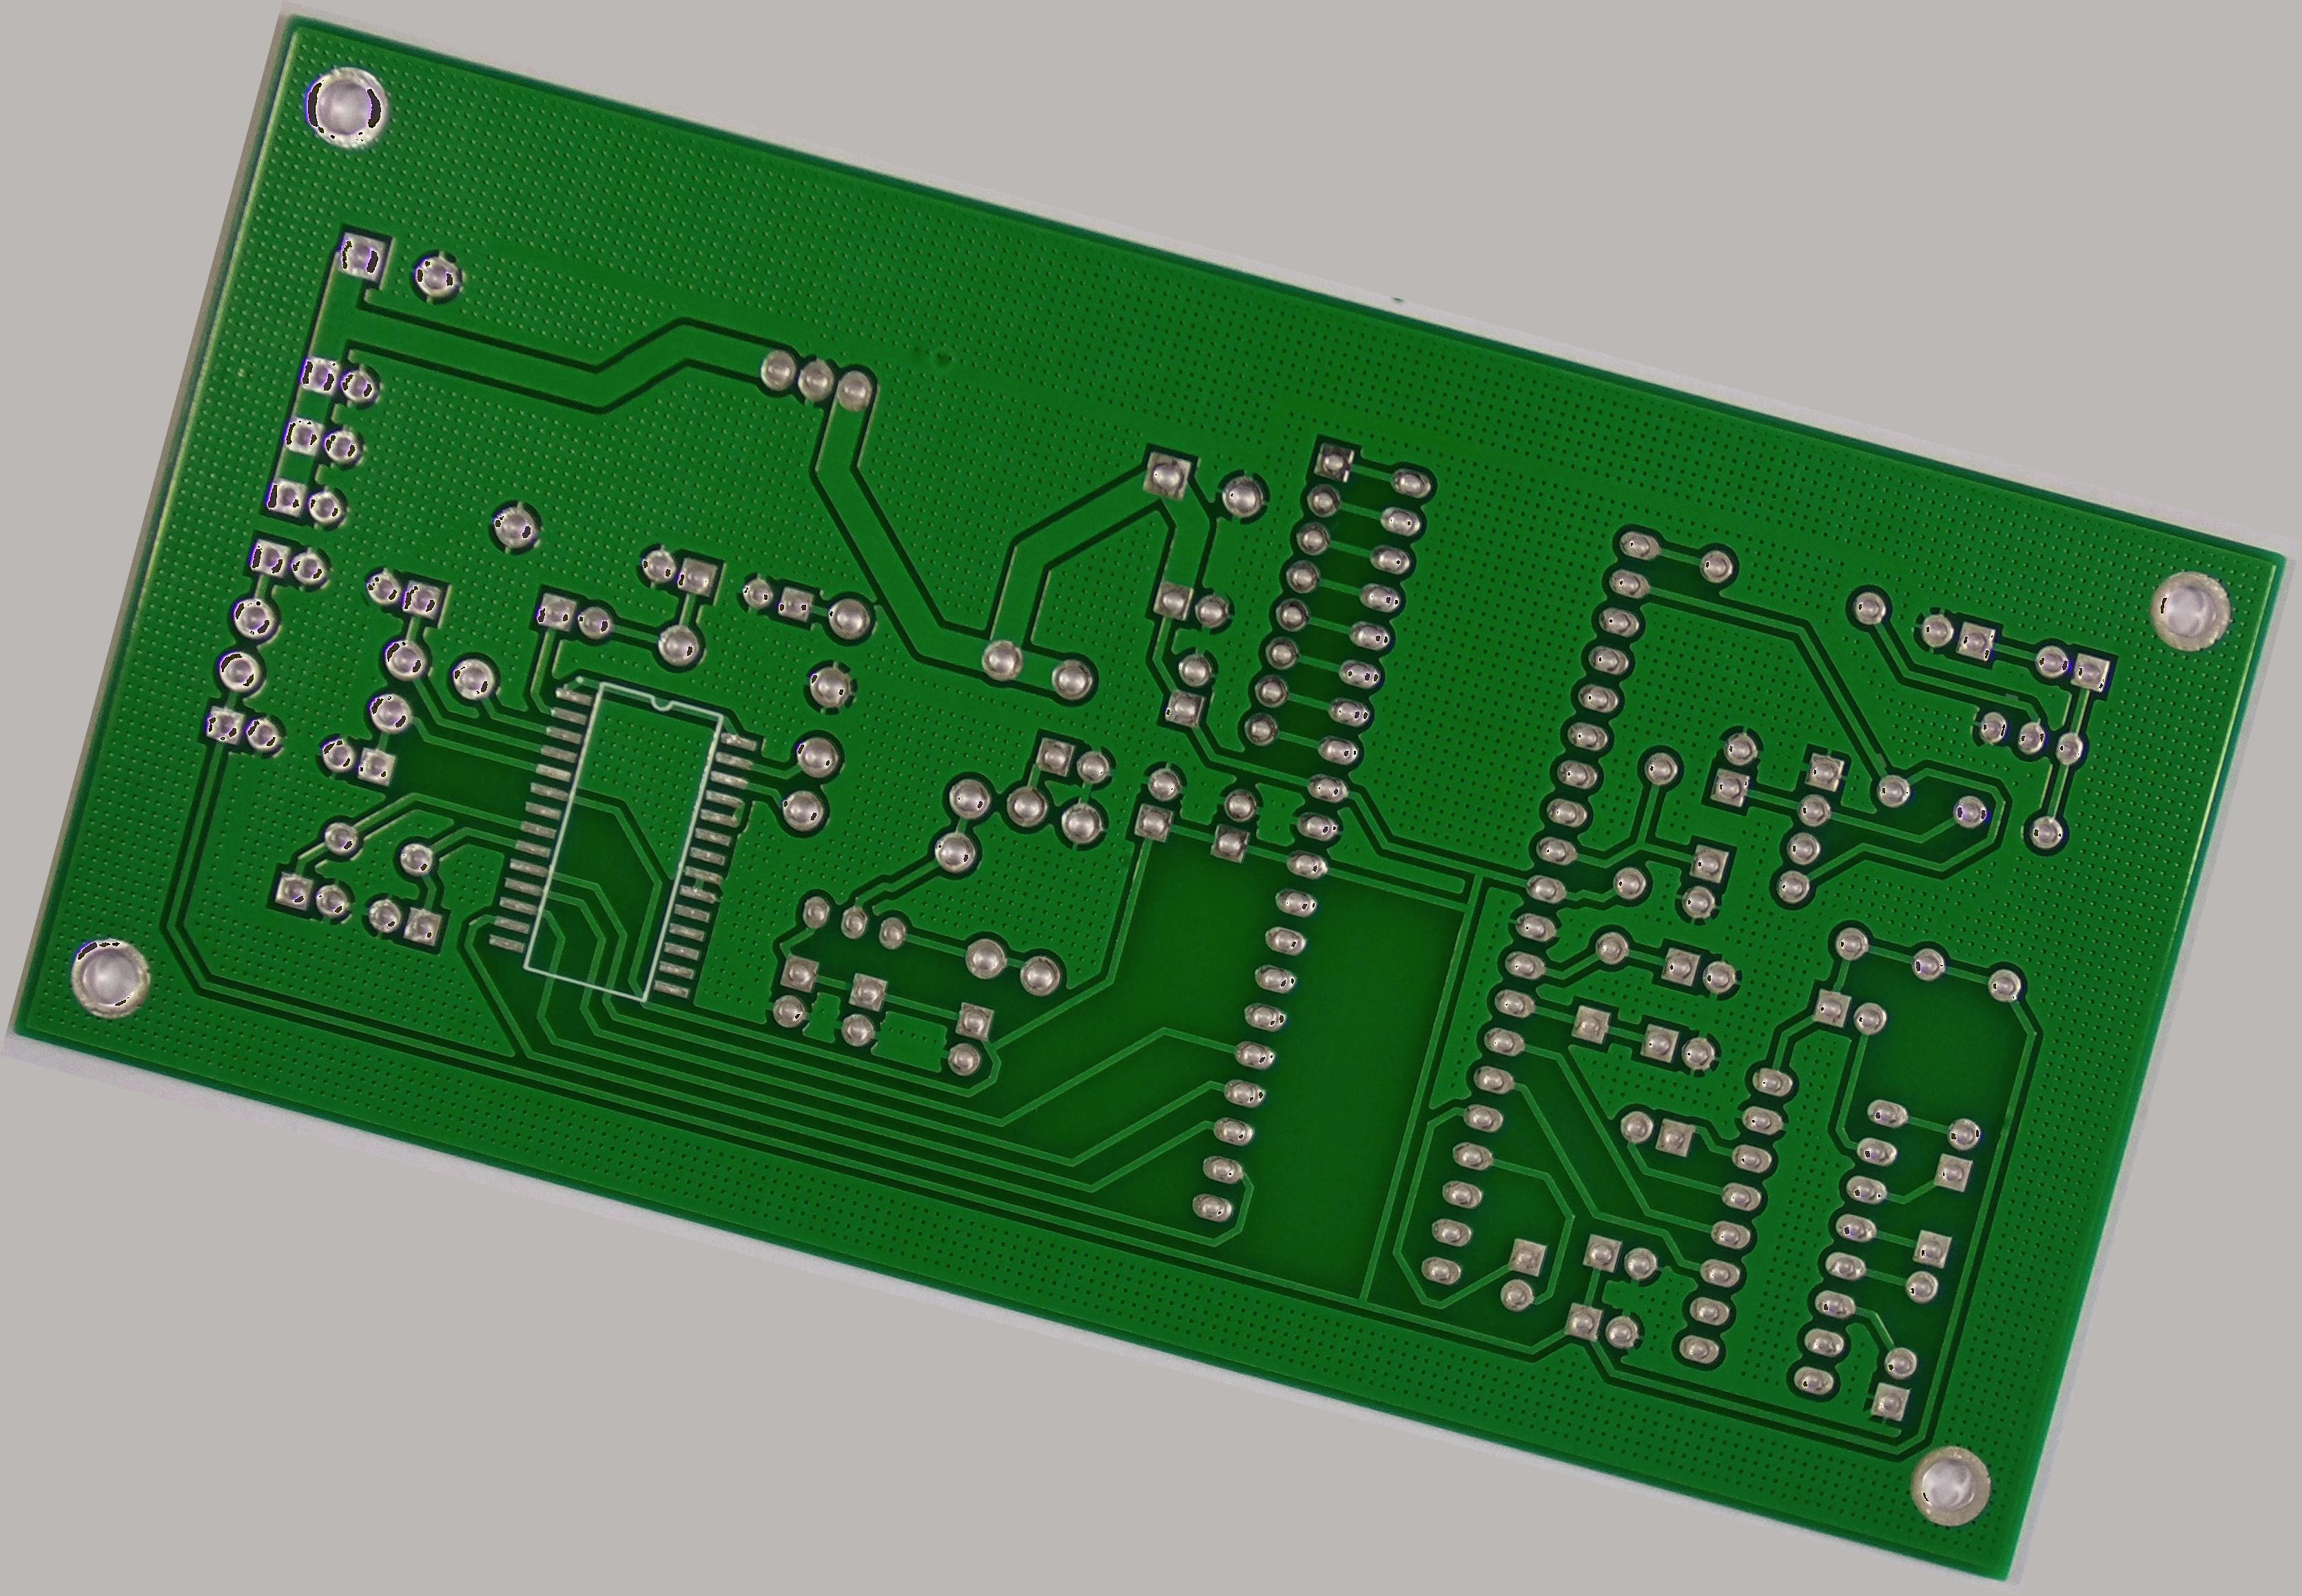spur: (1858, 739, 1896, 778), (1998, 685, 2027, 711)
